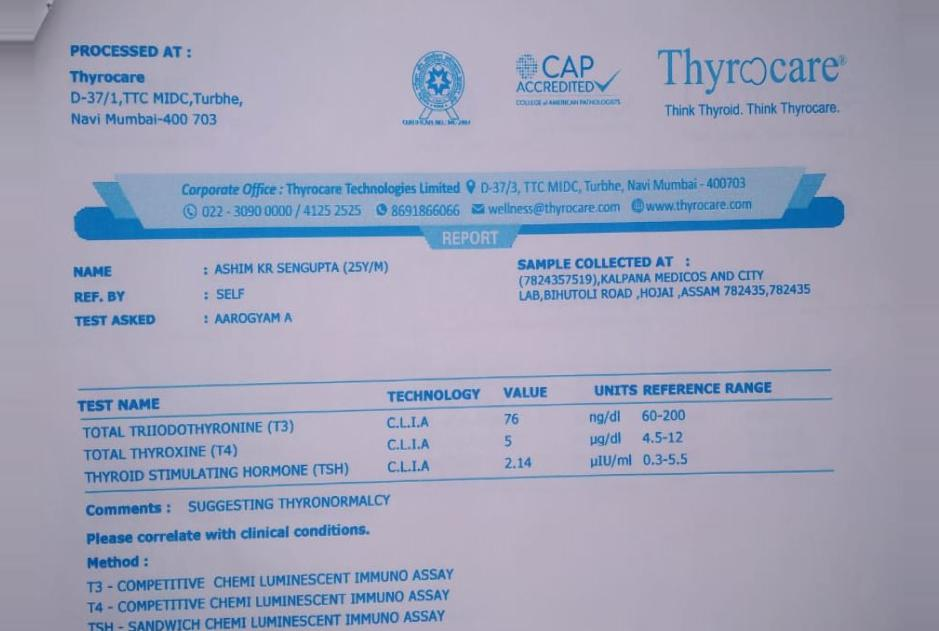Reference Range: (636, 401, 695, 475)
Test Name: (74, 413, 355, 492)
Units: (583, 404, 639, 476)
Value: (495, 404, 542, 480)
